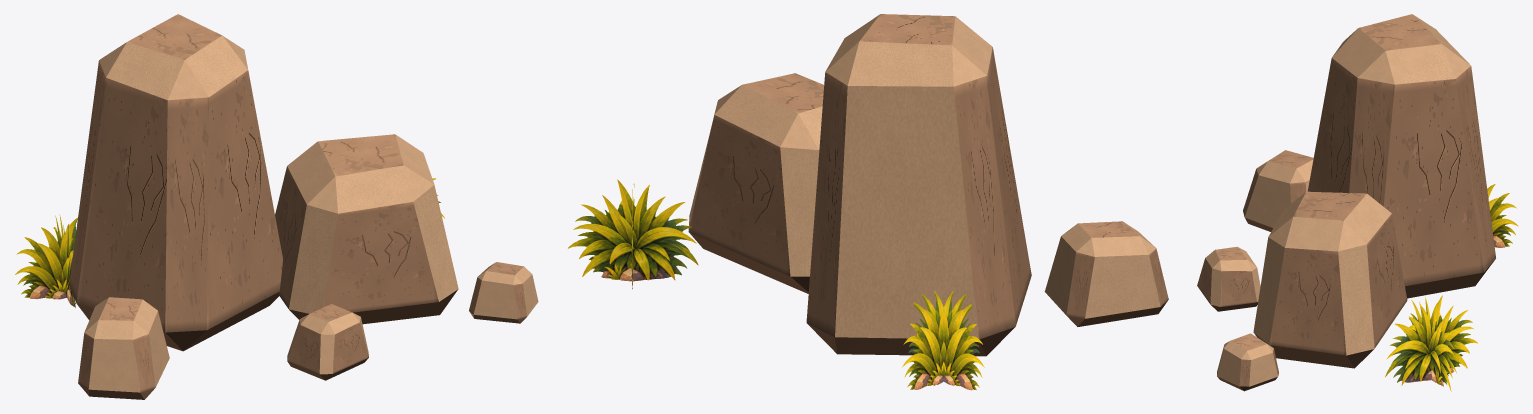
File: Rock2.fbx
3 views of the same model, side by side, from view 1: azimuth 30°, elevation 25°; view 2: azimuth 150°, elevation 25°; view 3: azimuth 270°, elevation 25° (orthographic). The views are drawn at different scales.
Parts seen in each view (by area): view 1: Rock2_Body, Rock2_Grass; view 2: Rock2_Body, Rock2_Grass; view 3: Rock2_Body, Rock2_Grass.
Boxes of the visible parts, x1=… form: Rock2_Body: x1=69, y1=14, x2=538, y2=399; Rock2_Grass: x1=15, y1=178, x2=444, y2=307; Rock2_Body: x1=688, y1=14, x2=1168, y2=356; Rock2_Grass: x1=568, y1=179, x2=984, y2=390; Rock2_Body: x1=1197, y1=14, x2=1495, y2=391; Rock2_Grass: x1=1385, y1=184, x2=1518, y2=391.
Size of the model in its own units: 1.54 by 0.9104 by 1.08.
2 materials, 2 textured.
